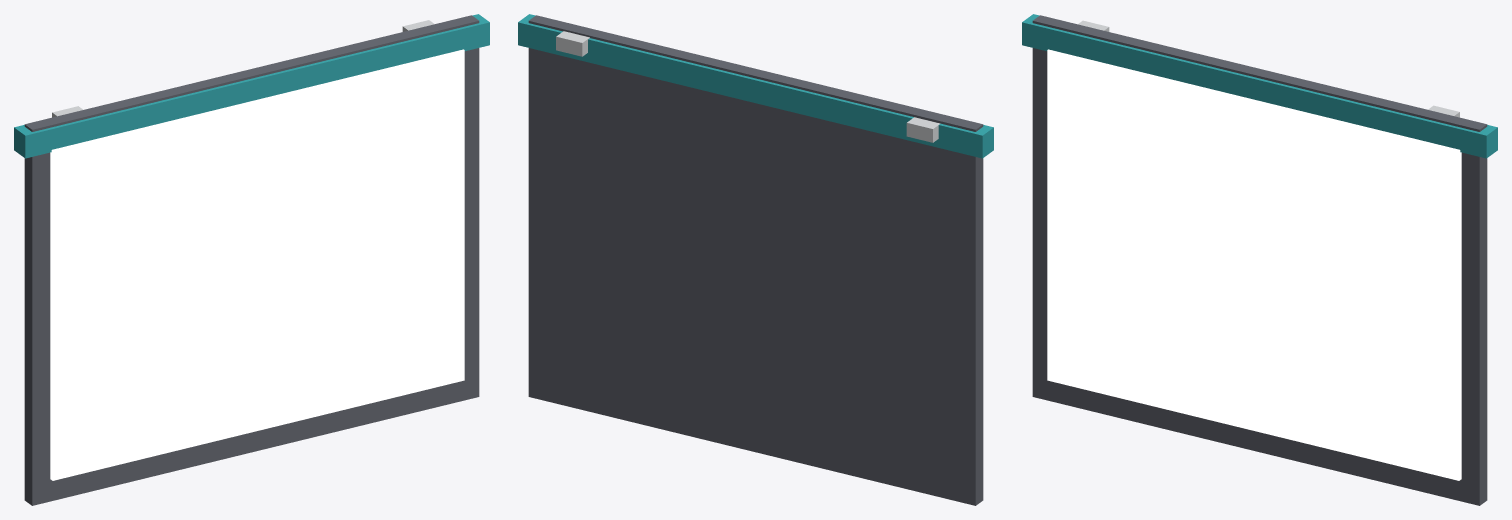
3 renders of one model, left to right at view 1: azimuth 30°, elevation 25°; view 2: azimuth 150°, elevation 25°; view 3: azimuth 330°, elevation 25°, orthographic.
Parts seen in each view (by area): view 1: test-room-mirror; view 2: test-room-mirror; view 3: test-room-mirror.
Boxes of the visible parts, x1,y1,x2,y2 form: test-room-mirror: (14,14,489,505); test-room-mirror: (518,14,993,505); test-room-mirror: (1022,14,1497,505).
Bounding box in the file's own units: 1.06 × 0.82 × 0.072.
